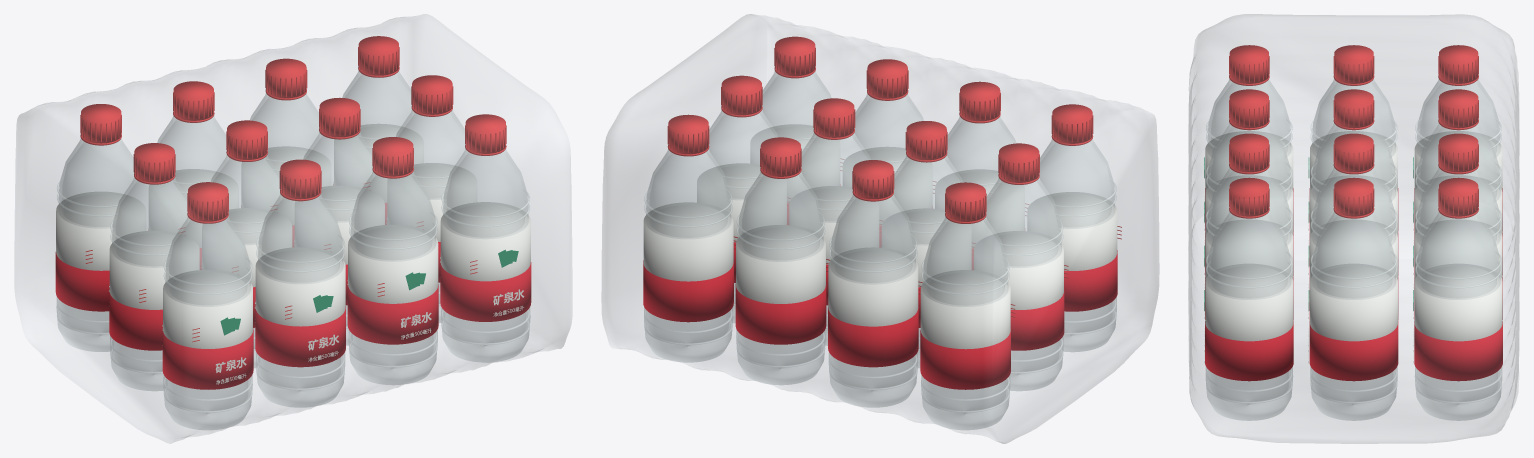
The model's file is water.glb.
3 renders of one model, left to right at view 1: azimuth 30°, elevation 25°; view 2: azimuth 150°, elevation 25°; view 3: azimuth 270°, elevation 25°, orthographic. The views are drawn at different scales.
Visible parts, largest first — view 1: Water sealed transparent bag, Water bottle 1 PET body, Water bottle 3 PET body, Water bottle 4 PET body, Water bottle 2 PET body, Water bottle 5 PET body, Water bottle 9 PET body, Water bottle 2 printed wrap, Water bottle 4 printed wrap, Water bottle 3 printed wrap, Water bottle 1 printed wrap, Water bottle 5 printed wrap (+31 smaller); view 2: Water sealed transparent bag, Water bottle 11 PET body, Water bottle 10 PET body, Water bottle 9 PET body, Water bottle 12 PET body, Water bottle 1 PET body, Water bottle 5 PET body, Water bottle 12 printed wrap, Water bottle 9 printed wrap, Water bottle 10 printed wrap, Water bottle 11 printed wrap, Water bottle 1 printed wrap (+31 smaller); view 3: Water sealed transparent bag, Water bottle 4 PET body, Water bottle 12 PET body, Water bottle 8 PET body, Water bottle 4 printed wrap, Water bottle 12 printed wrap, Water bottle 8 printed wrap, Water bottle 3 printed wrap, Water bottle 11 printed wrap, Water bottle 7 printed wrap, Water bottle 8 red lower label, Water bottle 4 red lower label (+28 smaller).
Part boxes in pixels (x1,y1,x2,y2): Water sealed transparent bag: (14,14,572,443); Water bottle 1 PET body: (163,217,252,429); Water bottle 3 PET body: (348,171,437,384); Water bottle 4 PET body: (441,149,530,362); Water bottle 2 PET body: (256,194,344,407); Water bottle 5 PET body: (110,178,187,390); Water bottle 9 PET body: (56,138,134,351); Water bottle 2 printed wrap: (255,247,345,326); Water bottle 4 printed wrap: (440,202,530,281); Water bottle 3 printed wrap: (348,225,438,303); Water bottle 1 printed wrap: (163,270,252,348); Water bottle 5 printed wrap: (109,231,199,309); Water sealed transparent bag: (601,14,1159,443); Water bottle 11 PET body: (736,172,825,384); Water bottle 10 PET body: (829,194,917,407); Water bottle 9 PET body: (921,217,1009,429); Water bottle 12 PET body: (644,149,732,362); Water bottle 1 PET body: (1039,139,1116,351); Water bottle 5 PET body: (986,178,1063,390); Water bottle 12 printed wrap: (643,202,733,281); Water bottle 9 printed wrap: (920,270,1010,349); Water bottle 10 printed wrap: (828,247,918,326); Water bottle 11 printed wrap: (736,225,825,303); Water bottle 1 printed wrap: (1027,192,1117,270); Water sealed transparent bag: (1188,14,1519,443); Water bottle 4 PET body: (1206,212,1292,420); Water bottle 12 PET body: (1415,212,1501,420); Water bottle 8 PET body: (1310,212,1397,420); Water bottle 4 printed wrap: (1205,264,1293,341); Water bottle 12 printed wrap: (1414,264,1502,341); Water bottle 8 printed wrap: (1310,264,1397,341); Water bottle 3 printed wrap: (1205,219,1293,279); Water bottle 11 printed wrap: (1414,219,1502,279); Water bottle 7 printed wrap: (1310,219,1397,279); Water bottle 8 red lower label: (1309,321,1398,381); Water bottle 4 red lower label: (1205,321,1293,381).
Size of the model in its own units: 0.312 by 0.1914 by 0.2344.
